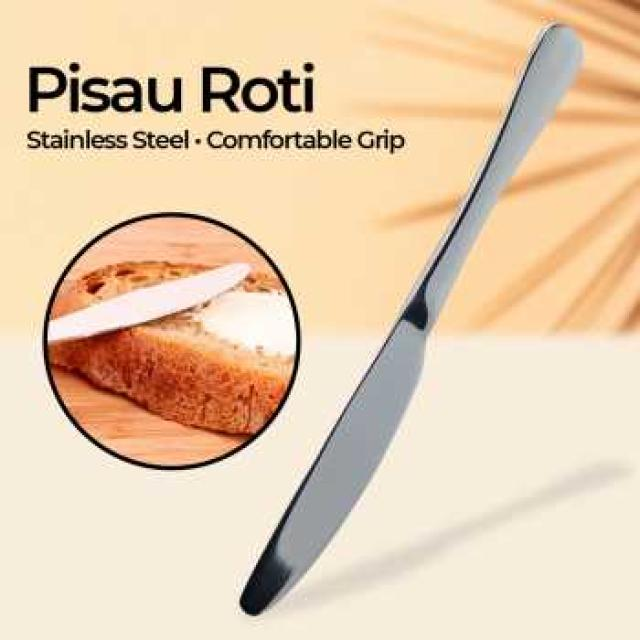Knife: (240, 24, 581, 613)
